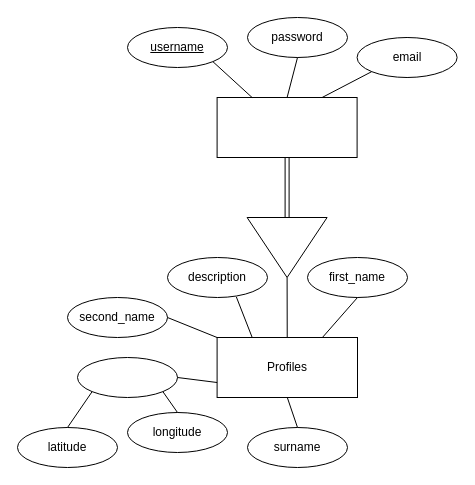
Image size: 475x485. Some labels were removed from this diagram. Each missing label, with the centre of its shape:
"Accounts" goes at point (286, 127).
"address" goes at point (127, 377).
"ISA" goes at point (286, 247).
